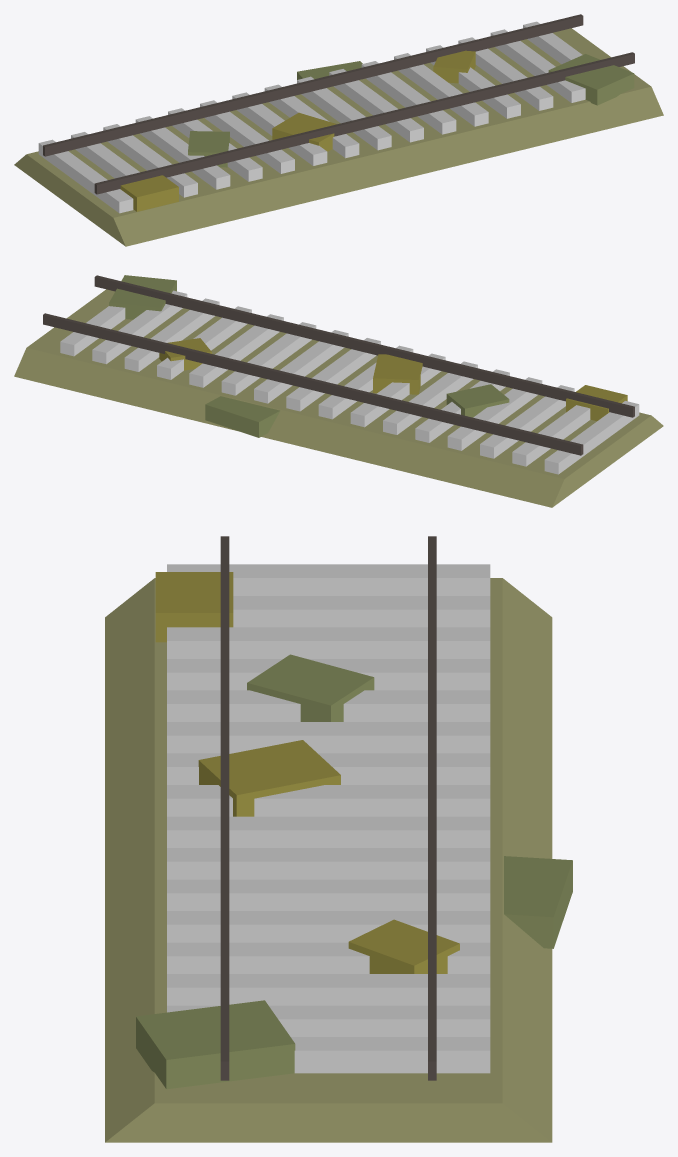
Rendered from SM_Via_Recta10_v2_Maleza_LOD0.fbx.
3 views of the same model, one above another, from view 1: azimuth 30°, elevation 25°; view 2: azimuth 150°, elevation 25°; view 3: azimuth 270°, elevation 25° (orthographic). The views are drawn at different scales.
Parts seen in each view (by area): view 1: SM_via_trazado_v2_LOD0; view 2: SM_via_trazado_v2_LOD0; view 3: SM_via_trazado_v2_LOD0.
Boxes of the visible parts, box(x1,y1,x2,y2) form: SM_via_trazado_v2_LOD0: box(14, 14, 663, 246); SM_via_trazado_v2_LOD0: box(14, 275, 663, 507); SM_via_trazado_v2_LOD0: box(105, 536, 572, 1142).
Size of the model in its own units: 10 by 0.72 by 3.77.
